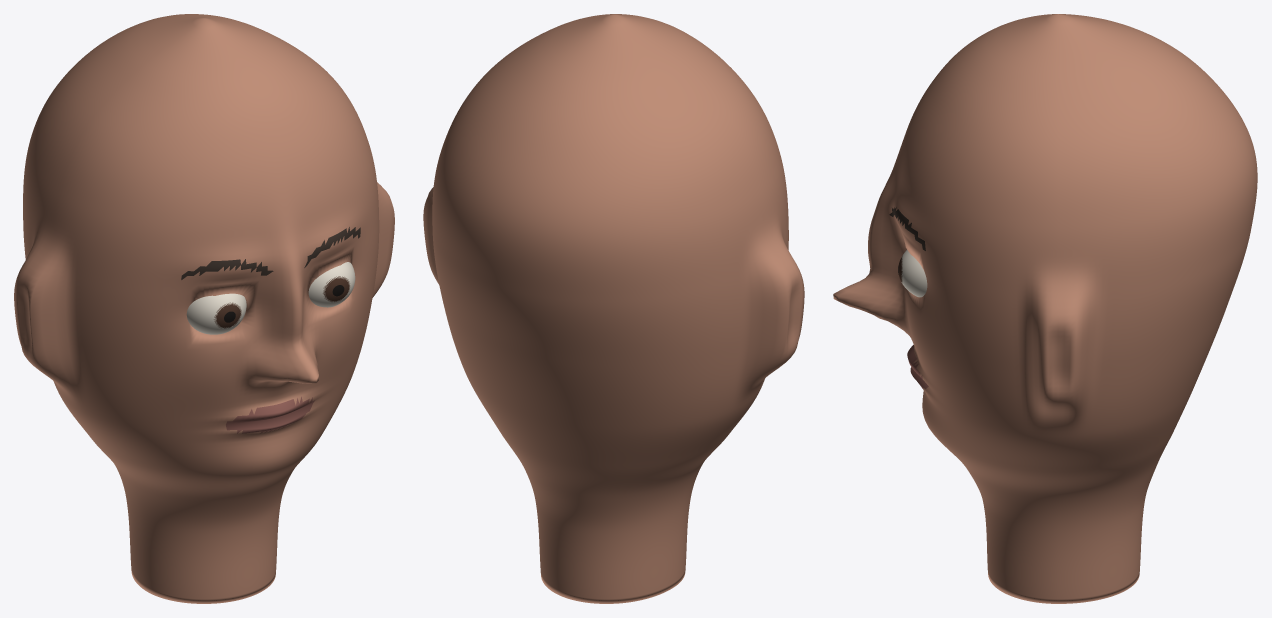
Rendered from neutral-head.obj.
The picture shows the model from 3 angles, left to right: view 1: azimuth 30°, elevation 25°; view 2: azimuth 150°, elevation 25°; view 3: azimuth 270°, elevation 25°; orthographic projection.
Visible parts, largest first — view 1: Skin, EyeLeft, EyeRight; view 2: Skin; view 3: Skin, EyeRight.
Part boxes in pixels (box(x1,y1,x2,y2)): Skin: box(14, 14, 394, 603); EyeLeft: box(186, 293, 246, 334); EyeRight: box(308, 262, 355, 307); Skin: box(423, 14, 804, 603); Skin: box(833, 14, 1257, 603); EyeRight: box(898, 250, 927, 297).
Bounding box in the file's own units: 1.51 × 2.2 × 1.51.
